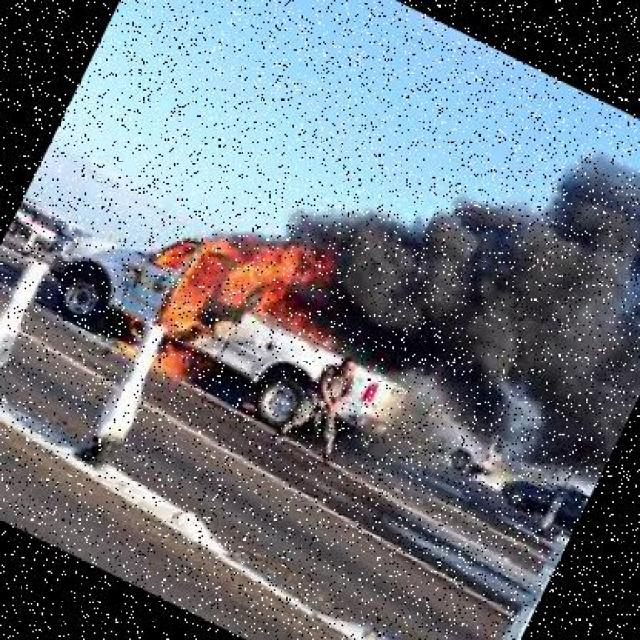fire: (107, 194, 376, 441)
